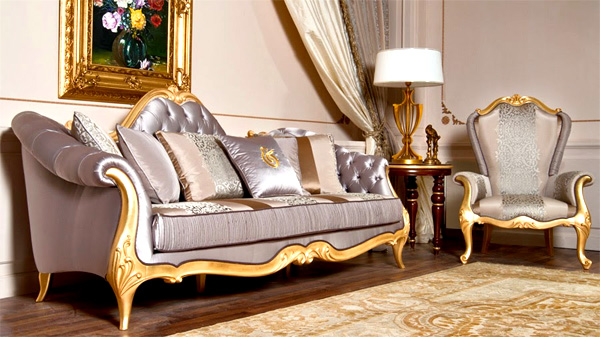Carving Chair: (20, 98, 407, 307), (440, 94, 596, 281)
